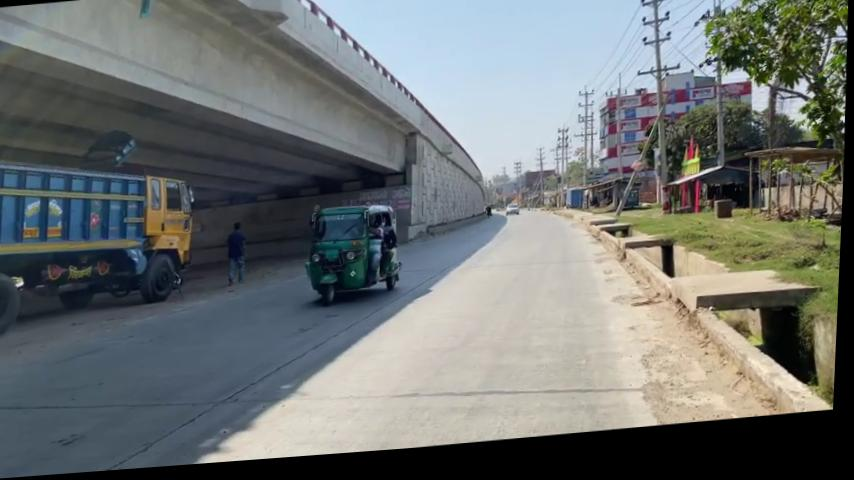Bollard: (507, 211, 522, 223)
Car: (544, 193, 845, 443)
Crosswalk: (716, 209, 735, 229)
Fallen-tree: (0, 0, 501, 282)
Fence: (226, 225, 251, 289), (487, 211, 495, 226)
Garbage: (634, 0, 679, 217), (707, 0, 733, 179)
Railroad-crossing: (690, 0, 853, 233)
Rickshaw: (0, 125, 201, 339), (304, 205, 408, 312)
